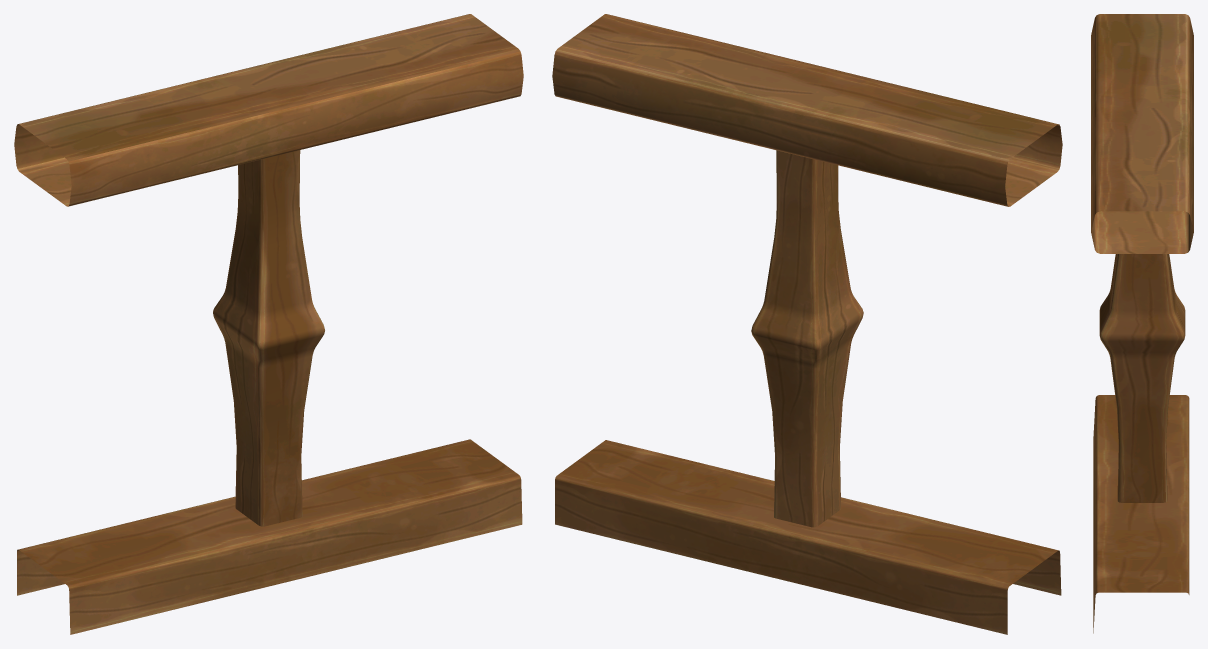
The model's file is SM_Rail.gltf.
3 renders of one model, left to right at view 1: azimuth 30°, elevation 25°; view 2: azimuth 150°, elevation 25°; view 3: azimuth 270°, elevation 25°, orthographic. The views are drawn at different scales.
Visible parts, largest first — view 1: SM_Rail_100x100; view 2: SM_Rail_100x100; view 3: SM_Rail_100x100.
Part boxes in pixels (x1,y1,x2,y2): SM_Rail_100x100: (14, 14, 523, 634); SM_Rail_100x100: (552, 14, 1062, 634); SM_Rail_100x100: (1091, 14, 1193, 633).
Bounding box in the file's own units: 1 × 1 × 0.22.
Materials: 1 (1 with a texture image).
